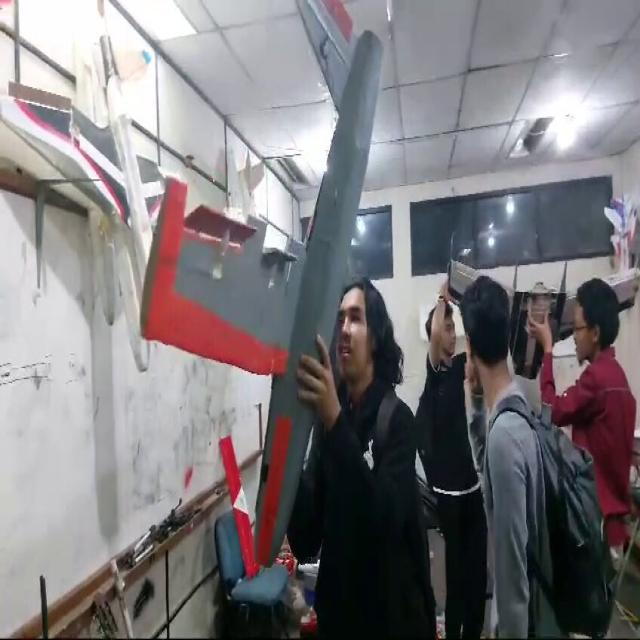plane: (134, 3, 394, 586)
